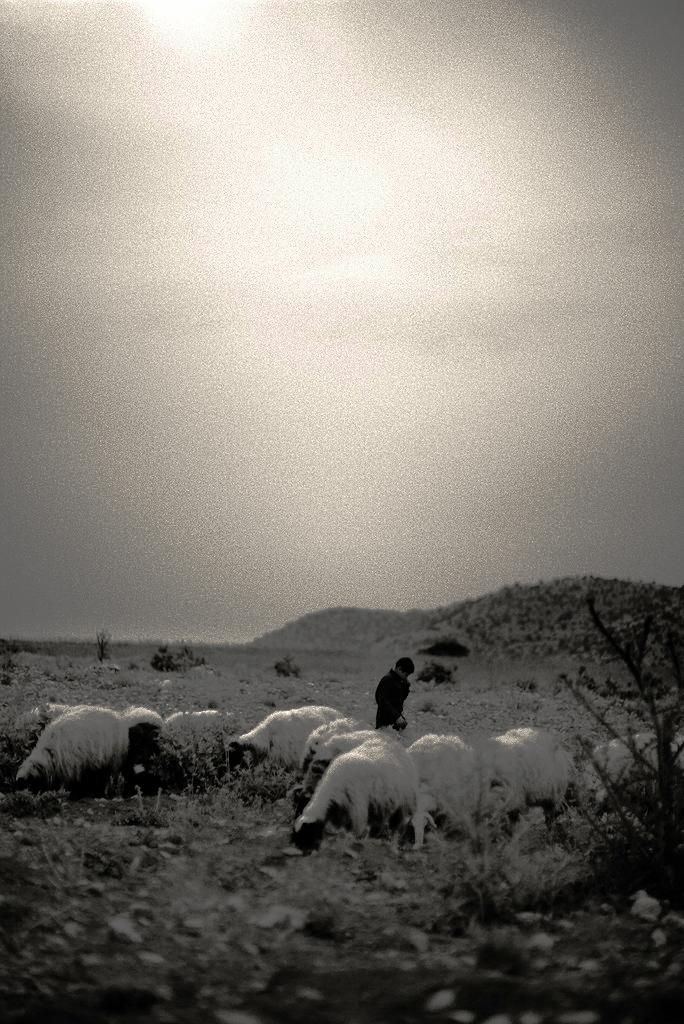Sheep: (284, 742, 416, 876), (12, 703, 142, 820), (482, 710, 573, 815), (406, 717, 480, 840), (587, 733, 684, 805), (230, 700, 298, 793), (300, 720, 363, 800), (116, 685, 164, 765), (164, 707, 237, 744)
